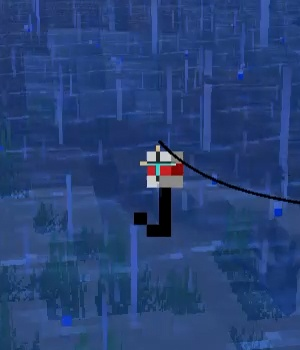up: (129, 141, 189, 241)
